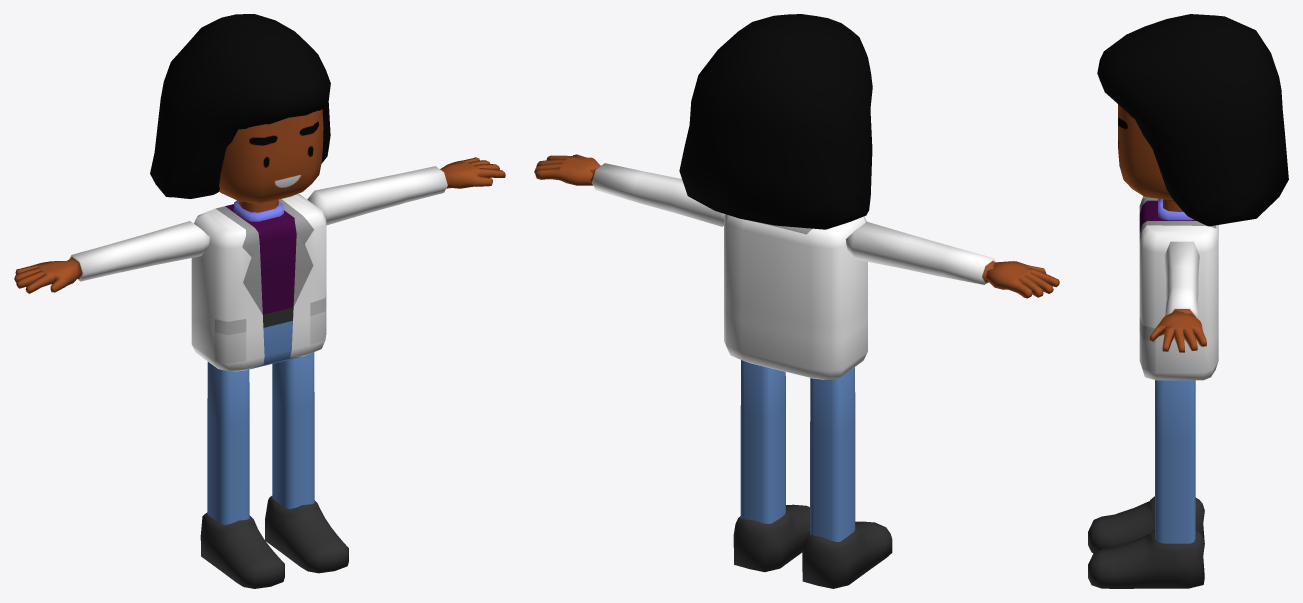
The model's file is NPC_Yellow01_BlackHair05.gltf.
3 renders of one model, left to right at view 1: azimuth 30°, elevation 25°; view 2: azimuth 150°, elevation 25°; view 3: azimuth 270°, elevation 25°, orthographic. The views are drawn at different scales.
Visible parts, largest first — view 1: NPC_Corpo_Yellow1_BlackHair.005; view 2: NPC_Corpo_Yellow1_BlackHair.005; view 3: NPC_Corpo_Yellow1_BlackHair.005.
Boxes of the visible parts, bbox=[...] form: NPC_Corpo_Yellow1_BlackHair.005: bbox=[14, 14, 505, 588]; NPC_Corpo_Yellow1_BlackHair.005: bbox=[534, 14, 1059, 588]; NPC_Corpo_Yellow1_BlackHair.005: bbox=[1088, 14, 1288, 588].
Size of the model in its own units: 2.31 by 2.37 by 0.7967.
Materials: 1 (1 with a texture image).
